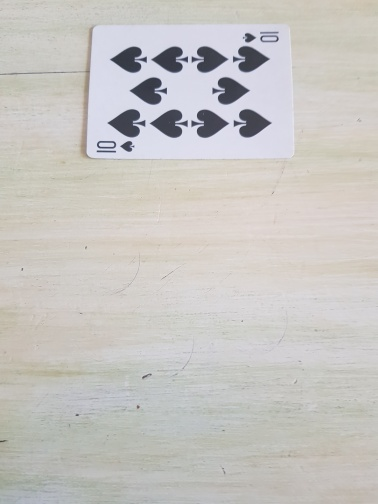ten: (84, 23, 296, 160)
